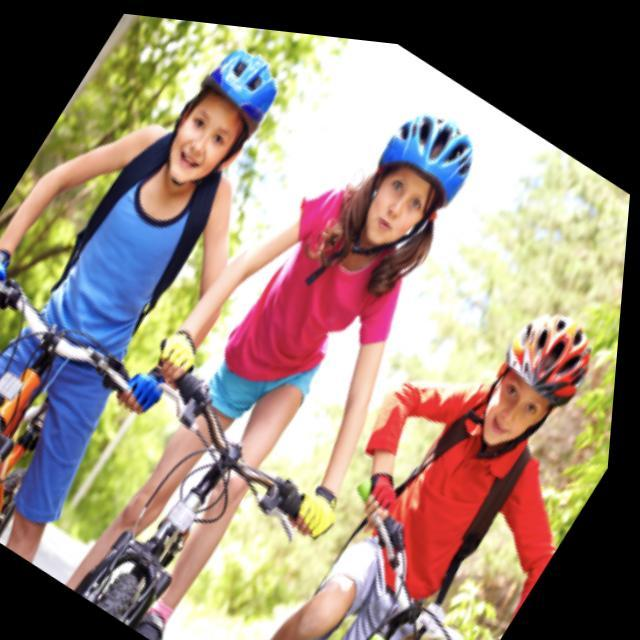Helmet: (346, 96, 484, 260), (153, 35, 279, 206), (462, 306, 598, 456)
